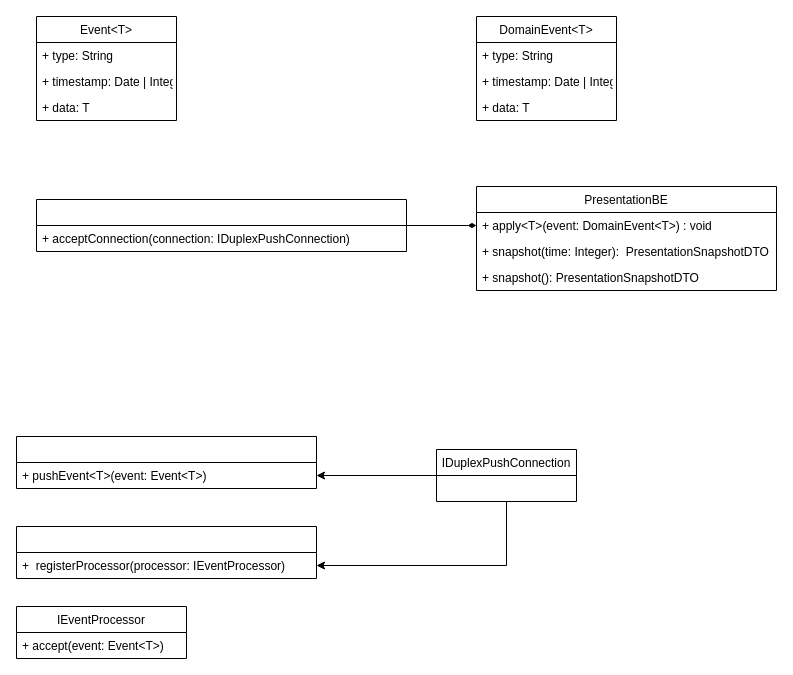
The diagram is 793 pixels wide and 675 high, and some of its shapes have lost their labels. Here are the shapes that lost their labels. From the top down, the box of each, then its label:
(36, 198, 406, 252): PresentationRoom
(16, 436, 316, 488): IOutboundPushChannel
(16, 526, 316, 578): IInboundPushChannel
